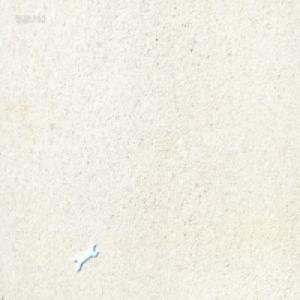Wrench: (74, 243, 98, 271)
